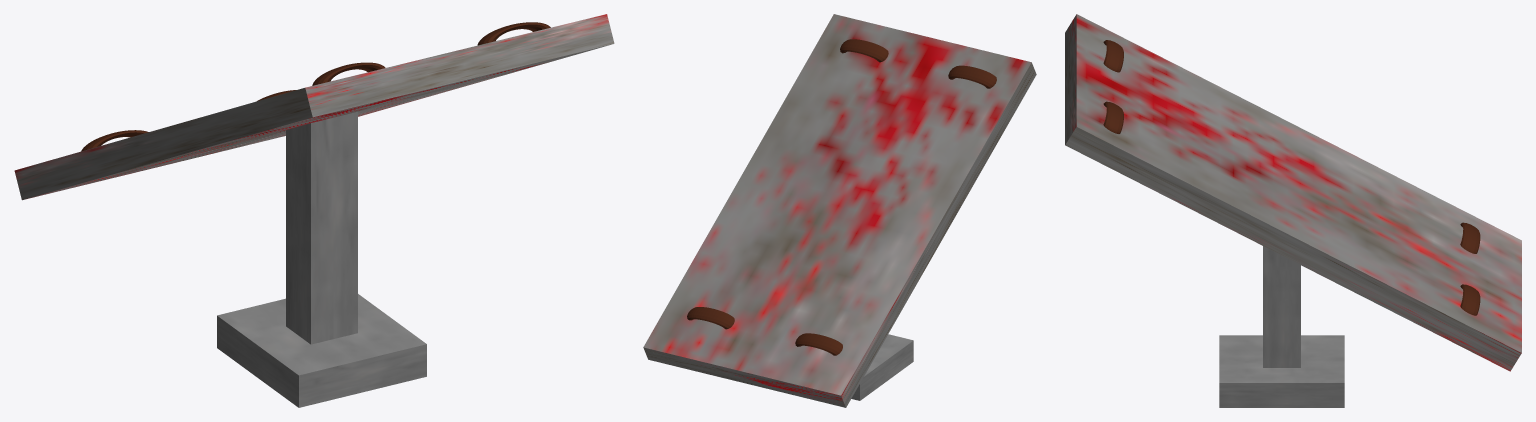
The model's file is SurgeonBed.fbx.
3 views of the same model, side by side, from view 1: azimuth 30°, elevation 25°; view 2: azimuth 150°, elevation 25°; view 3: azimuth 270°, elevation 25° (orthographic). The views are drawn at different scales.
Visible parts, largest first — view 1: Cube, Cube.001, Cube.002, Torus.002, Torus.003; view 2: Cube, Cube.002, Torus.002, Torus.003, Torus, Torus.001; view 3: Cube, Cube.002, Cube.001, Torus.003, Torus.002, Torus, Torus.001.
Part boxes in pixels (bbox=[...]): Cube: bbox=[14, 14, 614, 200]; Cube.001: bbox=[286, 111, 357, 344]; Cube.002: bbox=[217, 294, 426, 407]; Torus.002: bbox=[312, 62, 385, 85]; Torus.003: bbox=[477, 22, 550, 45]; Cube: bbox=[643, 14, 1036, 407]; Cube.002: bbox=[851, 334, 913, 400]; Torus.002: bbox=[948, 65, 996, 88]; Torus.003: bbox=[840, 39, 888, 62]; Torus: bbox=[687, 307, 734, 329]; Torus.001: bbox=[795, 333, 842, 355]; Cube: bbox=[1065, 14, 1521, 371]; Cube.002: bbox=[1219, 335, 1344, 407]; Cube.001: bbox=[1263, 246, 1300, 367]; Torus.003: bbox=[1103, 101, 1123, 133]; Torus.002: bbox=[1103, 40, 1123, 72]; Torus: bbox=[1460, 284, 1480, 315]; Torus.001: bbox=[1460, 222, 1480, 253].
Bounding box in the file's own units: 405 × 526 × 694.
7 materials, 3 textured.
